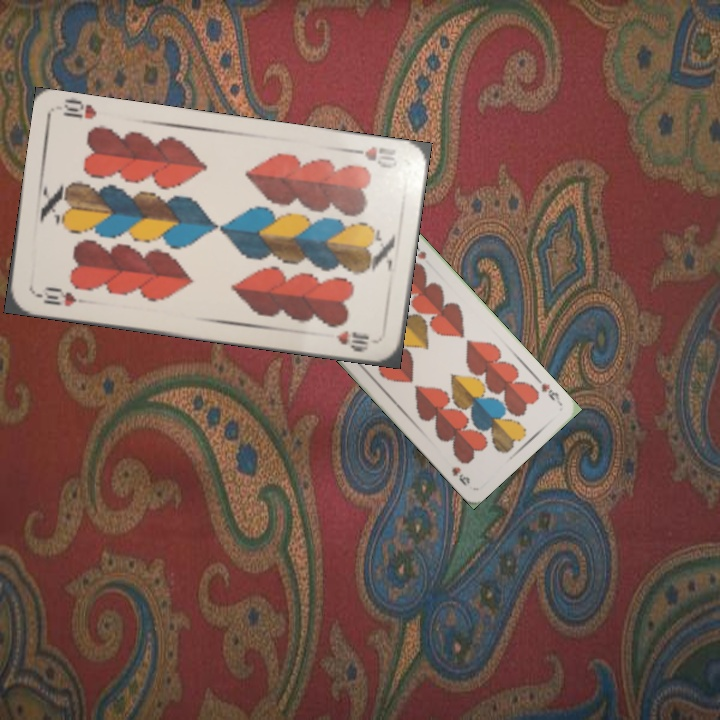H10: (344, 142, 400, 171), (31, 283, 79, 309)
H9: (532, 374, 564, 407)
